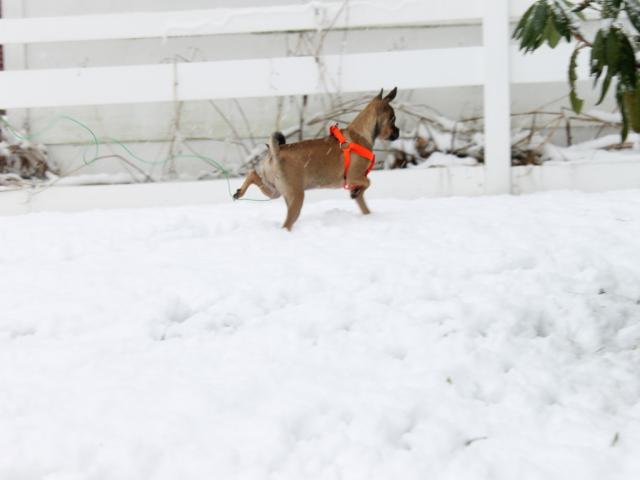Dog: (233, 84, 400, 230)
